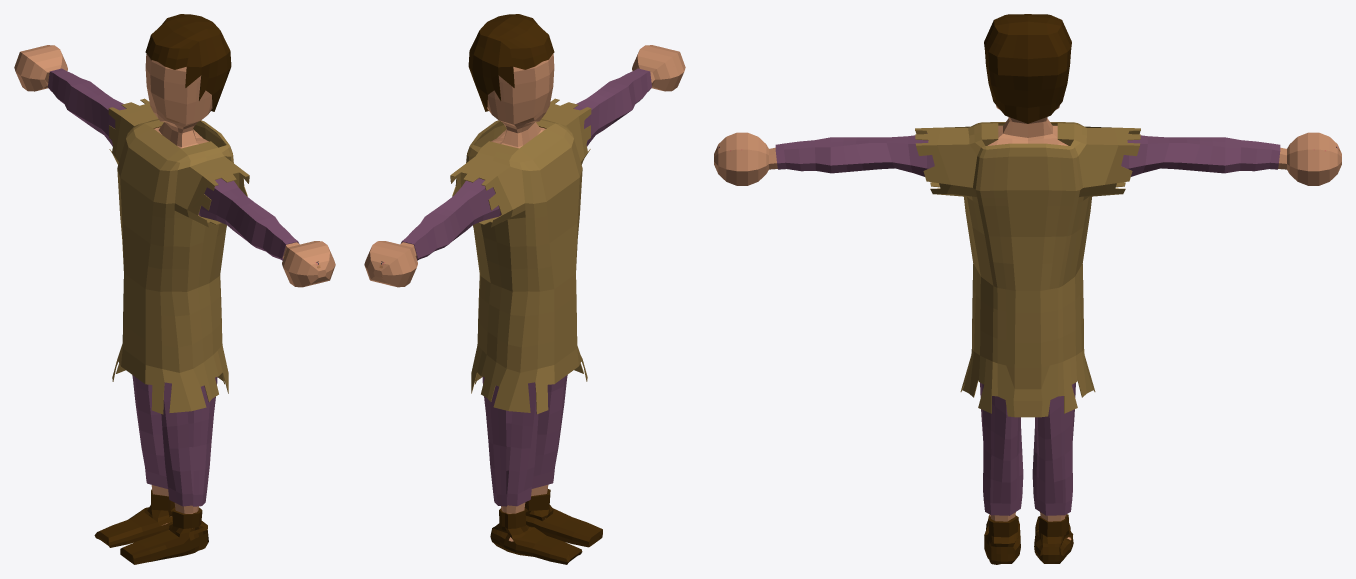
The model's file is NPC.fbx.
3 renders of one model, left to right at view 1: azimuth 30°, elevation 25°; view 2: azimuth 150°, elevation 25°; view 3: azimuth 270°, elevation 25°, orthographic. The views are drawn at different scales.
Visible parts, largest first — view 1: RopaBase, PersonajeBase, ZapatosBase; view 2: RopaBase, PersonajeBase, ZapatosBase; view 3: RopaBase, PersonajeBase, ZapatosBase.
Boxes of the visible parts, left/top/right/bottom form: RopaBase: left=48, top=68, right=299, bottom=506; PersonajeBase: left=14, top=14, right=335, bottom=525; ZapatosBase: left=94, top=489, right=208, bottom=564; RopaBase: left=400, top=68, right=651, bottom=506; PersonajeBase: left=364, top=14, right=685, bottom=541; ZapatosBase: left=490, top=489, right=602, bottom=564; RopaBase: left=775, top=122, right=1280, bottom=515; PersonajeBase: left=714, top=14, right=1341, bottom=540; ZapatosBase: left=984, top=514, right=1073, bottom=564.
Bounding box in the file's own units: 174 × 797 × 828.
